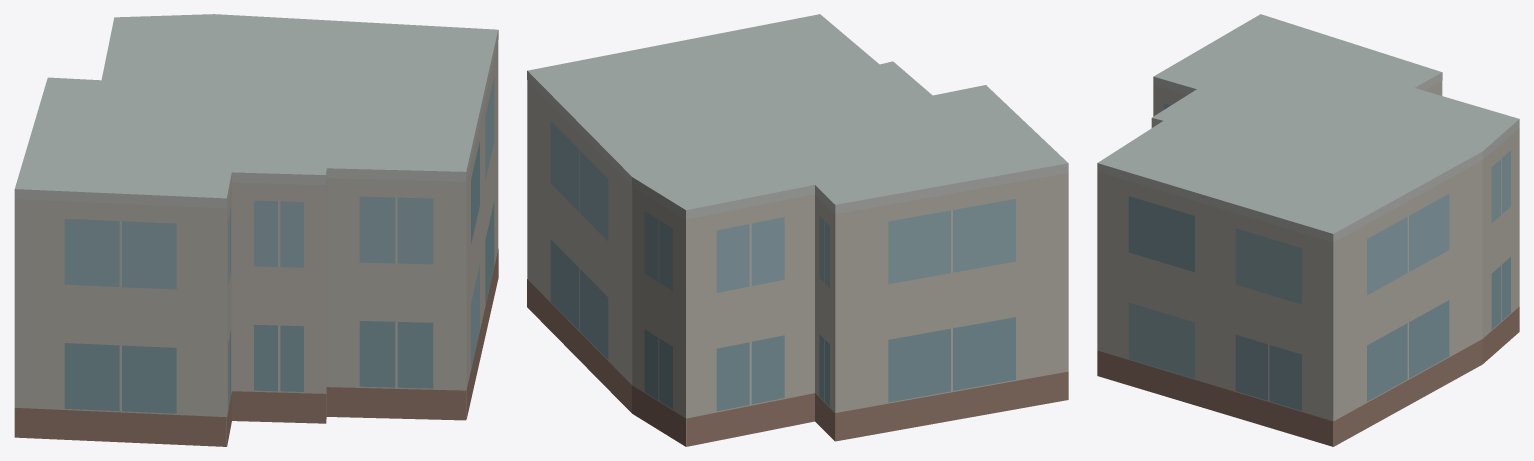
The model's file is survey-upis-32718472.glb.
The picture shows the model from 3 angles, left to right: view 1: azimuth 30°, elevation 25°; view 2: azimuth 150°, elevation 25°; view 3: azimuth 270°, elevation 25°; orthographic projection. The views are drawn at different scales.
Visible parts, largest first — view 1: survey-upis-32718472.tmp; view 2: survey-upis-32718472.tmp; view 3: survey-upis-32718472.tmp.
Part boxes in pixels (x1,y1,x2,y2): survey-upis-32718472.tmp: [14, 14, 498, 446]; survey-upis-32718472.tmp: [527, 14, 1068, 446]; survey-upis-32718472.tmp: [1097, 14, 1519, 446].
Size of the model in its own units: 13.53 by 6.1 by 10.97.
